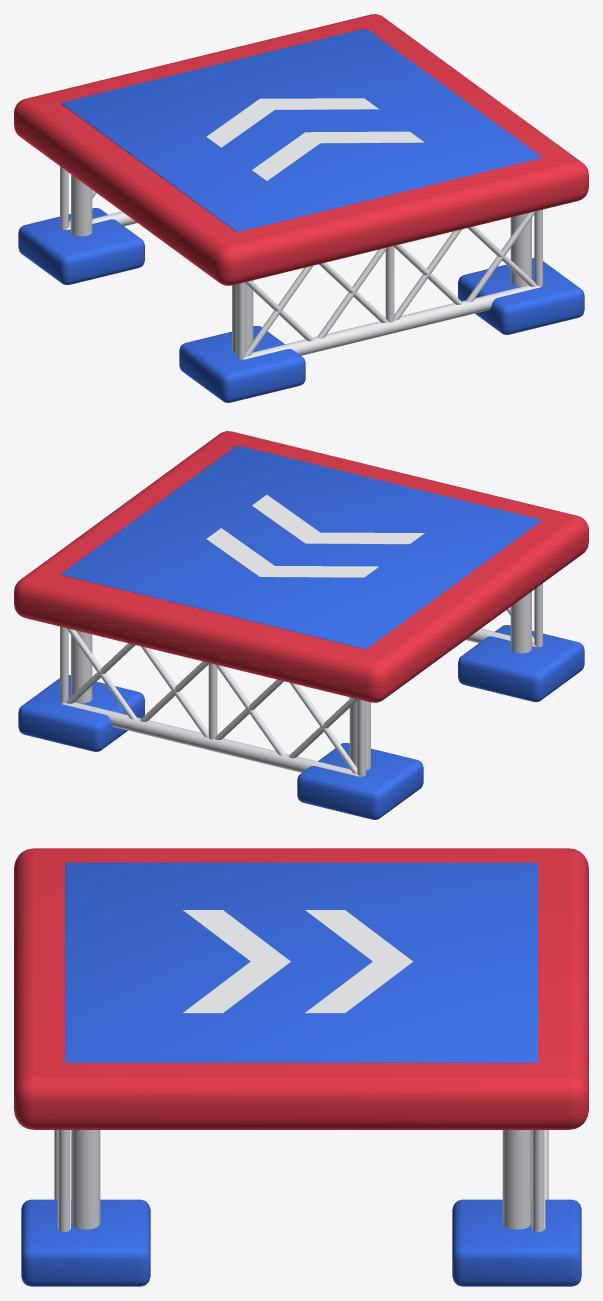
The model's file is SD_Platform_4x4.fbx.
3 views of the same model, one above another, from view 1: azimuth 30°, elevation 25°; view 2: azimuth 150°, elevation 25°; view 3: azimuth 270°, elevation 25° (orthographic). The views are drawn at different scales.
Parts seen in each view (by area): view 1: Platform_4x4; view 2: Platform_4x4; view 3: Platform_4x4.
Boxes of the visible parts, <box> form: Platform_4x4: <box>14,14,588,402</box>; Platform_4x4: <box>14,431,588,819</box>; Platform_4x4: <box>14,848,588,1286</box>.
Size of the model in its own units: 4 by 1.61 by 4.
